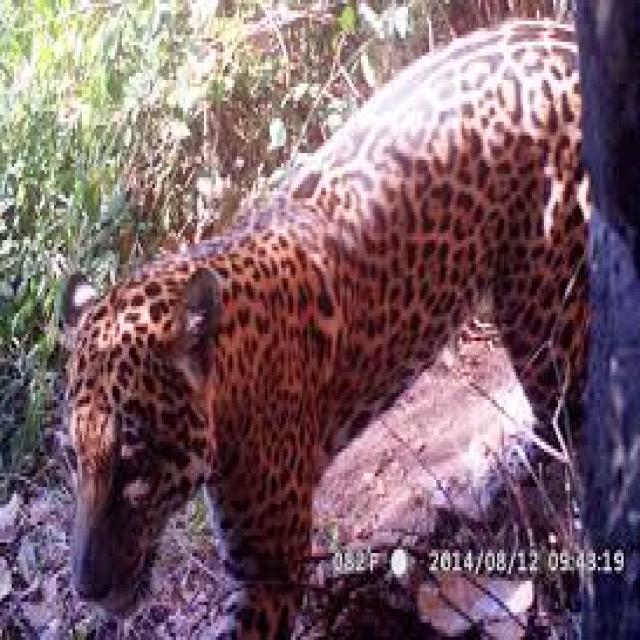Jaguar: (68, 48, 588, 630)
